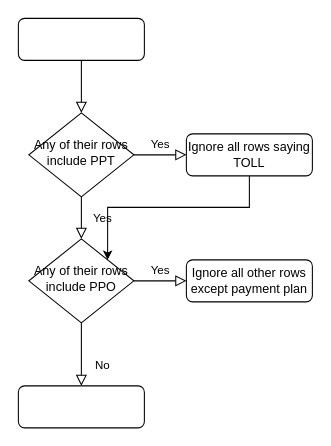
Some shapes in this 331 by 446 pixel diagram are drawn without their labels. The shapes that lost their labels are listed below. From the top down, each one's box as (x1, y1, x2, y2) in pixels, then its label:
(17, 17, 144, 60): Invoices grouped by payer
(17, 385, 144, 428): Repair Lamp
